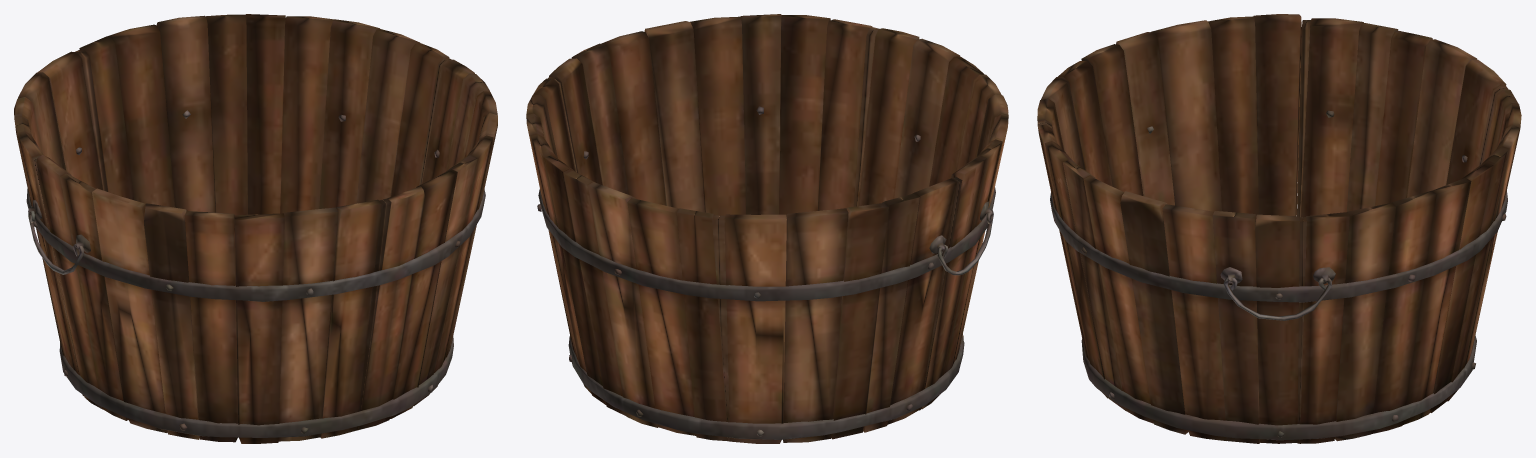
The model's file is wooden_bucket_02.glb.
3 renders of one model, left to right at view 1: azimuth 30°, elevation 25°; view 2: azimuth 150°, elevation 25°; view 3: azimuth 270°, elevation 25°, orthographic.
Visible parts, largest first — view 1: wooden_bucket_02, wooden_bucket_02_handle_01; view 2: wooden_bucket_02, wooden_bucket_02_handle_01; view 3: wooden_bucket_02, wooden_bucket_02_handle_02.
Part boxes in pixels (x1,y1,x2,y2): wooden_bucket_02: (14, 14, 497, 443); wooden_bucket_02_handle_01: (28, 210, 84, 274); wooden_bucket_02: (526, 14, 1008, 443); wooden_bucket_02_handle_01: (937, 210, 993, 275); wooden_bucket_02: (1037, 14, 1521, 443); wooden_bucket_02_handle_02: (1223, 277, 1332, 320).
Size of the model in its own units: 0.6142 by 0.3504 by 0.6139.
1 material, 1 textured.
